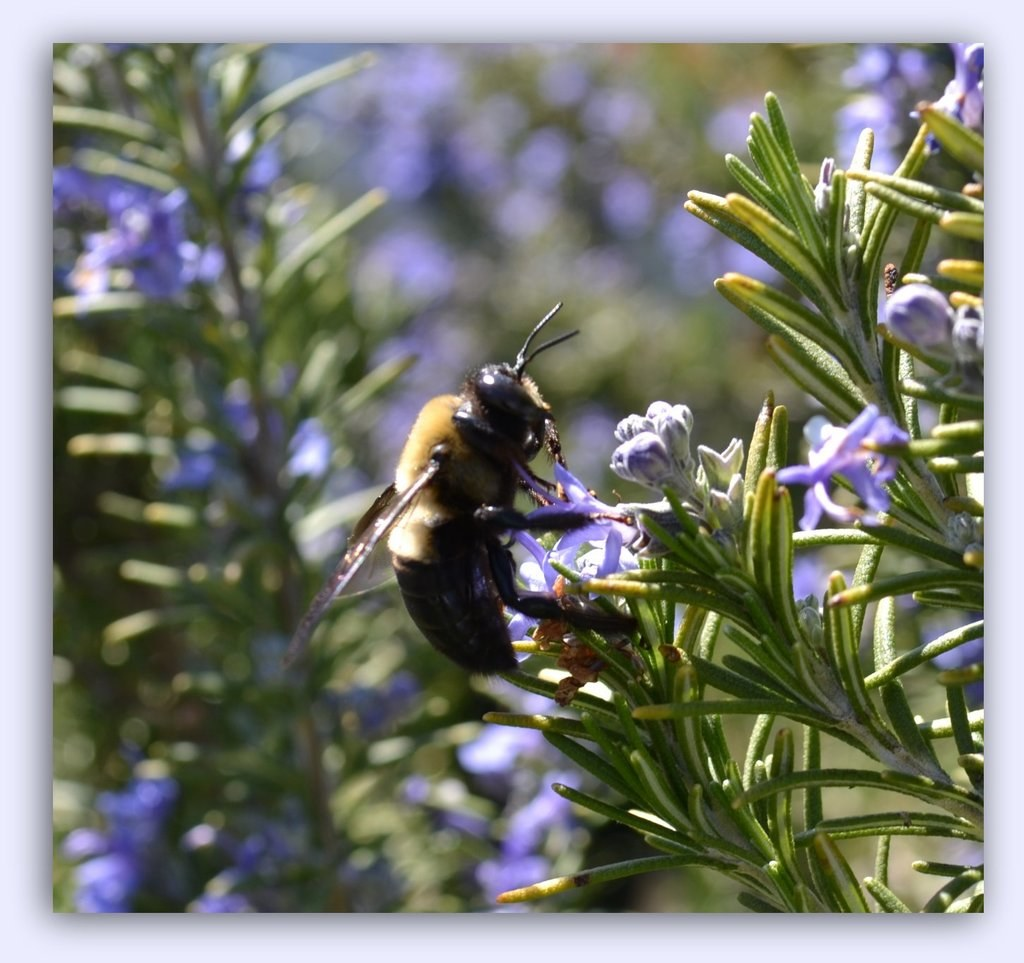bee: (298, 310, 615, 701)
insect: (501, 466, 640, 640), (778, 441, 850, 532)
